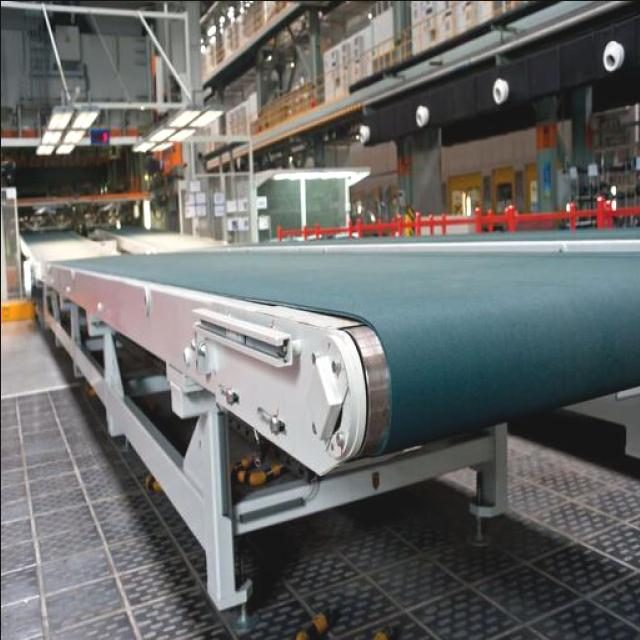conveyor: (49, 242, 640, 446)
